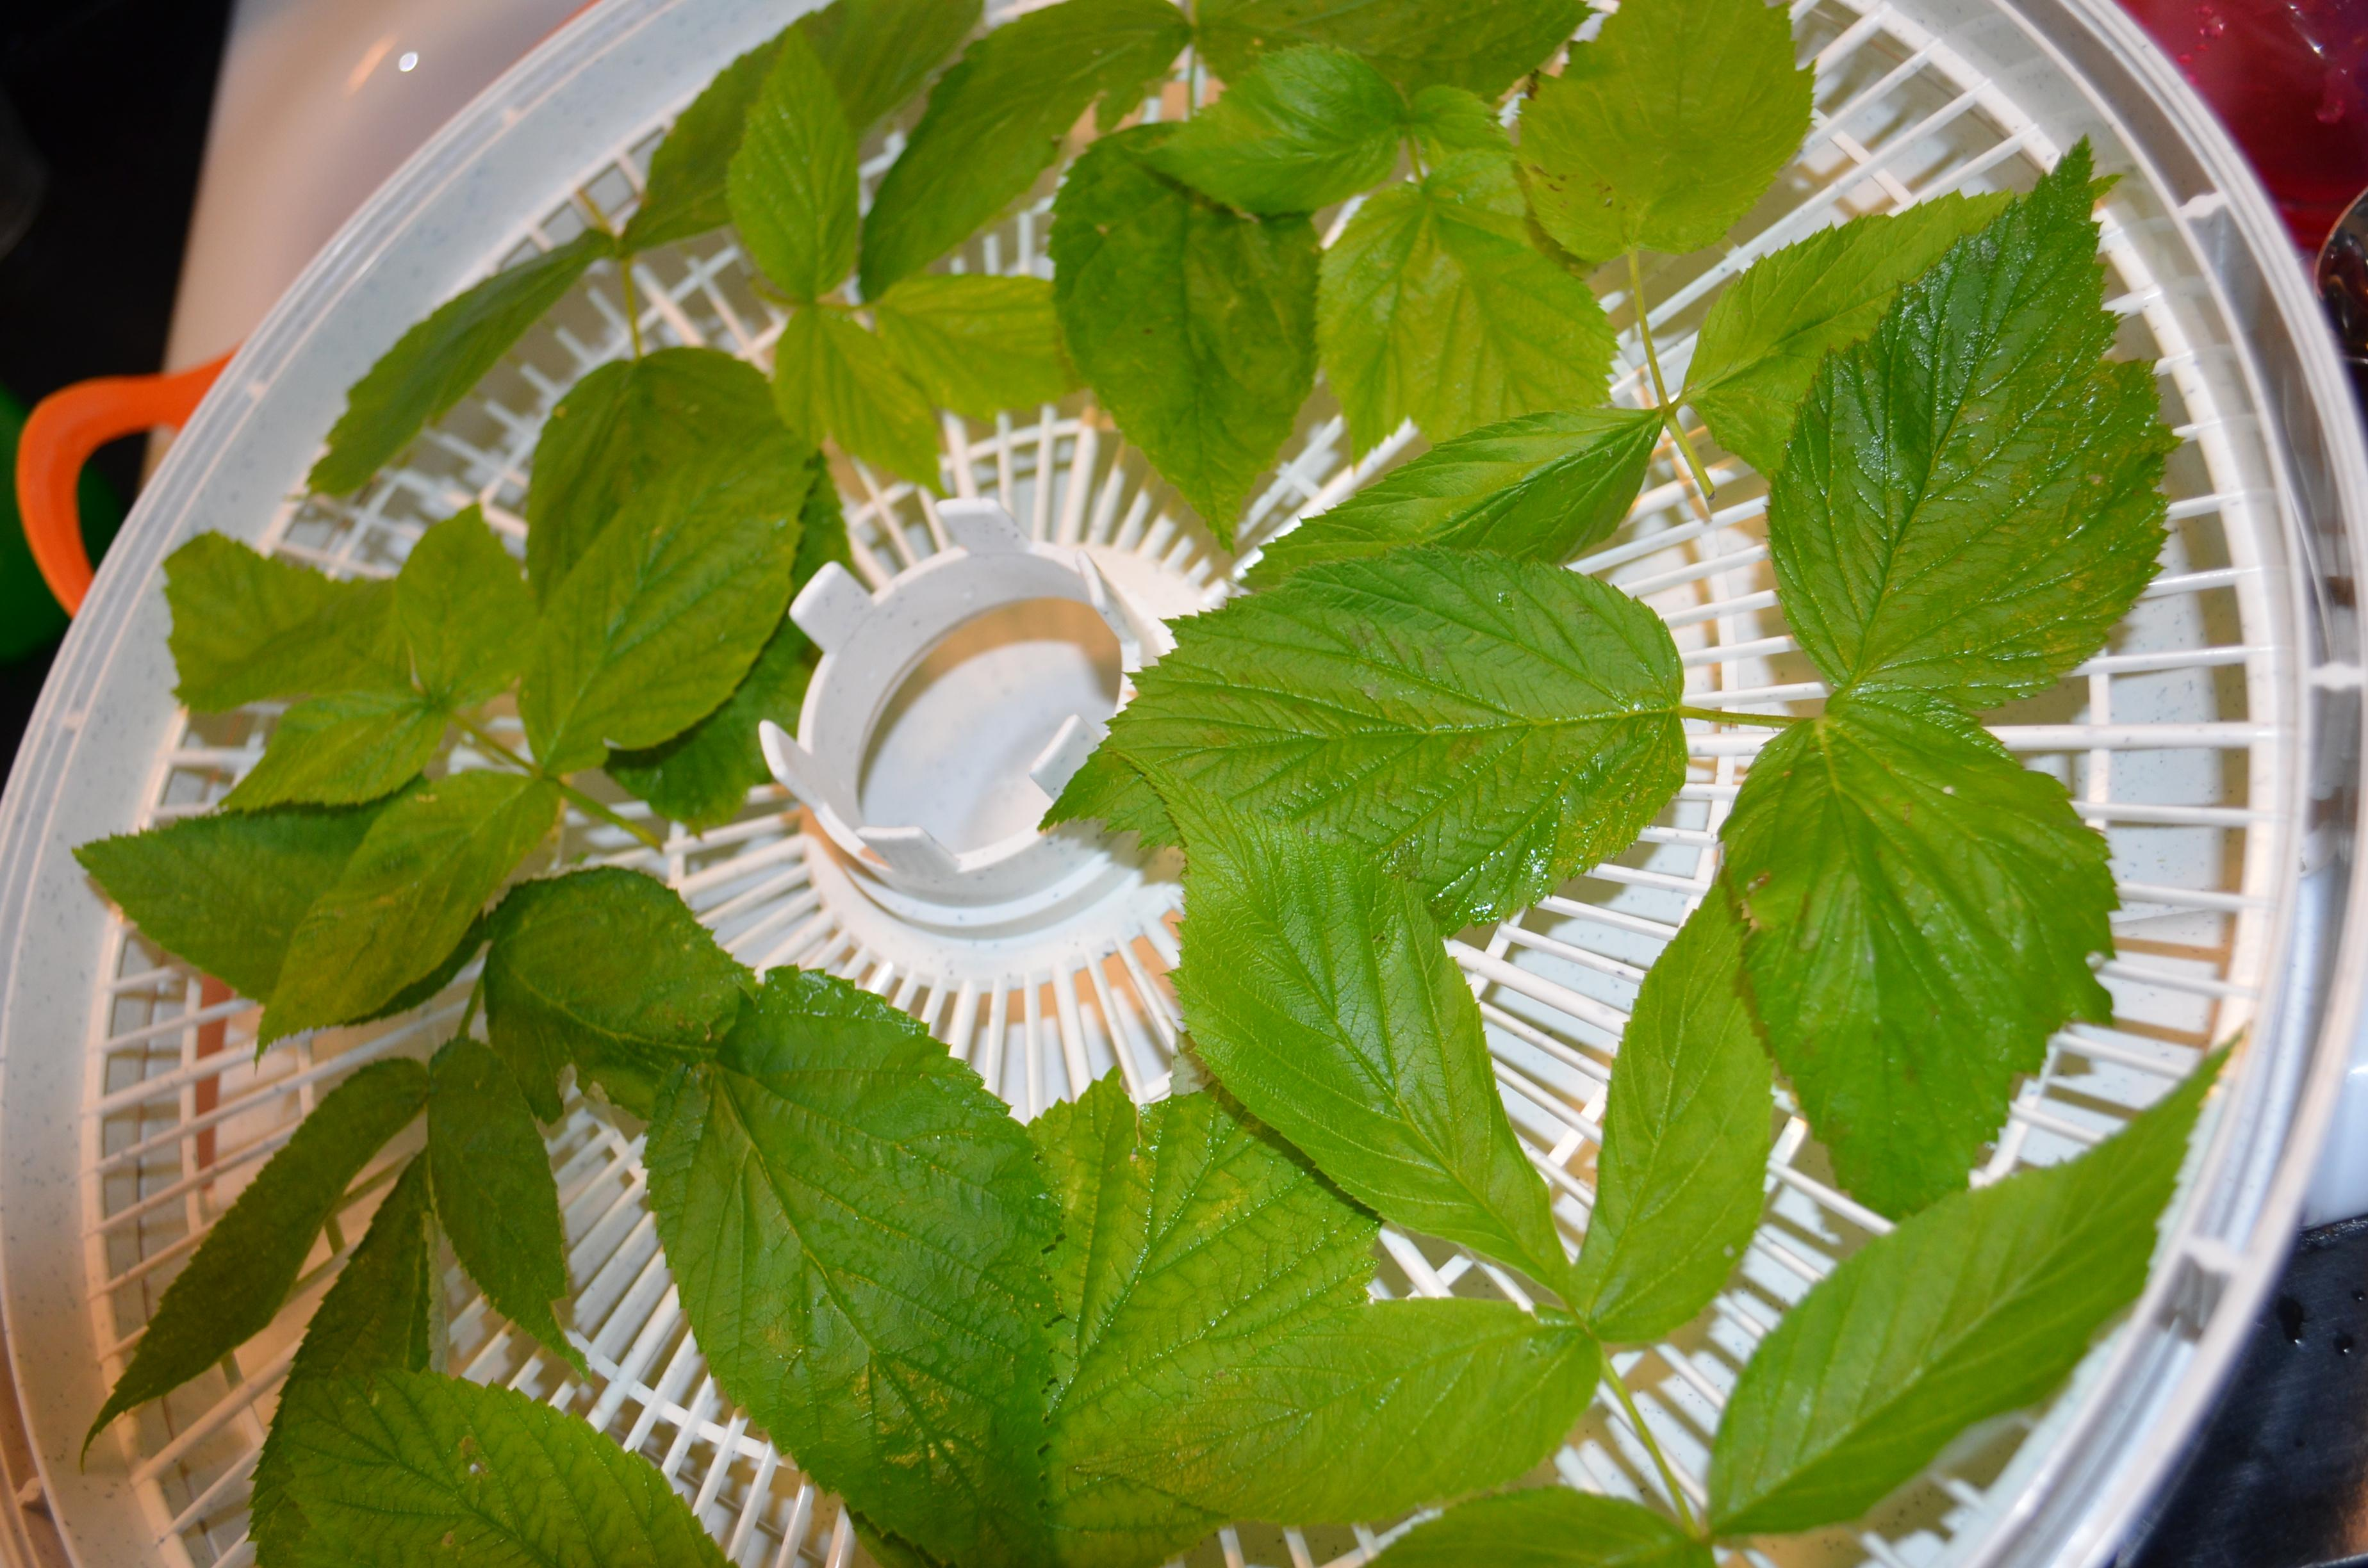Raspberry leaf: (1031, 562, 1694, 931), (1761, 135, 2165, 709), (1715, 691, 2130, 1223)
